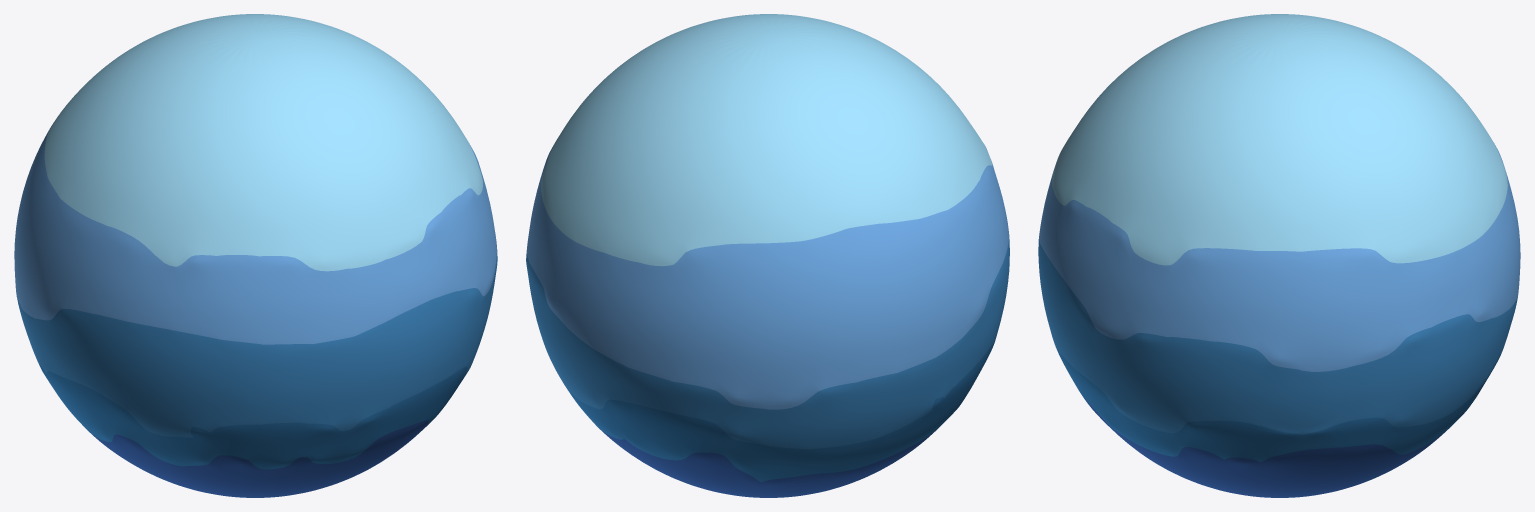
The model's file is skybox.fbx.
3 renders of one model, left to right at view 1: azimuth 30°, elevation 25°; view 2: azimuth 150°, elevation 25°; view 3: azimuth 270°, elevation 25°, orthographic.
Visible parts, largest first — view 1: Skybox; view 2: Skybox; view 3: Skybox.
Boxes of the visible parts, x1=… form: Skybox: x1=14, y1=14, x2=497, y2=497; Skybox: x1=526, y1=14, x2=1009, y2=497; Skybox: x1=1038, y1=14, x2=1520, y2=497.
Size of the model in its own units: 19906 by 19952 by 19773.
